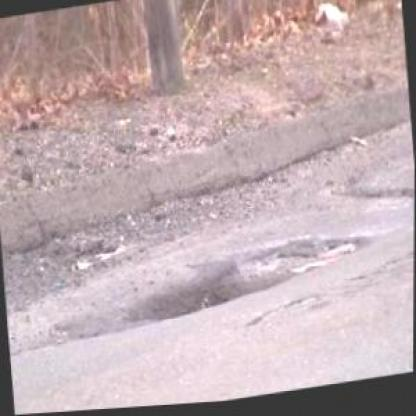pothole: (124, 227, 372, 330)
